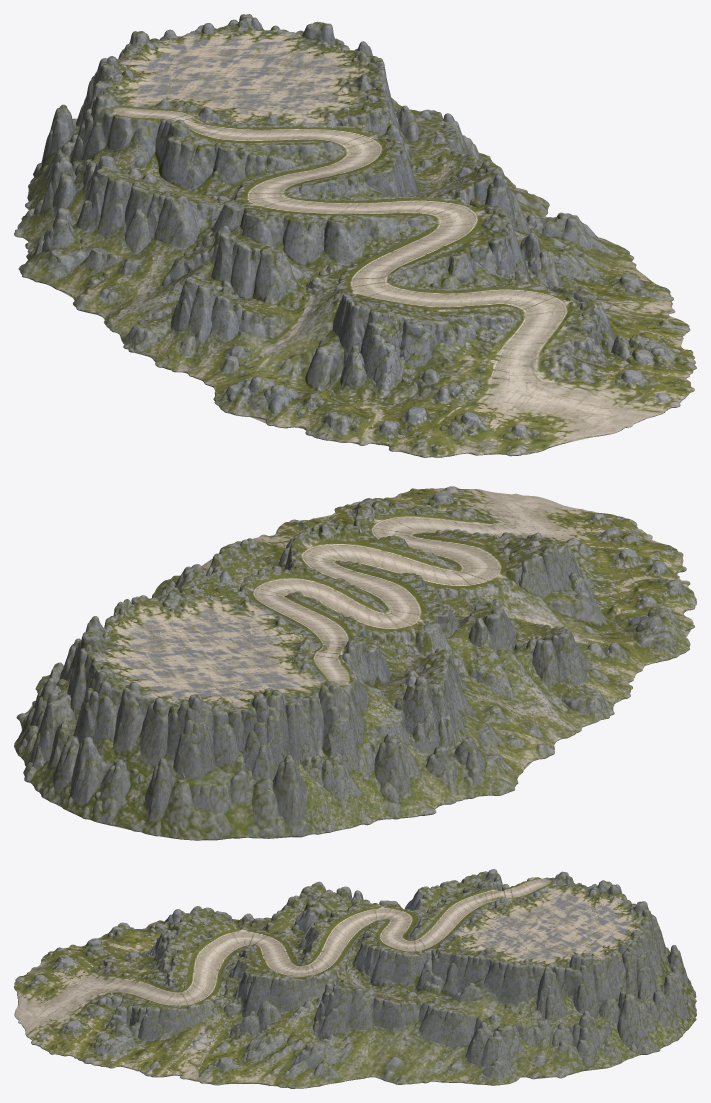
Rendered from runtime-candidate.glb.
The picture shows the model from 3 angles, top to bottom: view 1: azimuth 30°, elevation 25°; view 2: azimuth 150°, elevation 25°; view 3: azimuth 270°, elevation 25°; orthographic projection. The views are drawn at different scales.
Parts seen in each view (by area): view 1: Mesh_0; view 2: Mesh_0; view 3: Mesh_0.
Boxes of the visible parts, x1,y1,x2,y2 form: Mesh_0: (14, 14, 696, 457); Mesh_0: (14, 486, 696, 840); Mesh_0: (14, 869, 696, 1088).
Size of the model in its own units: 1.18 by 0.2827 by 1.9.
Materials: 1 (1 with a texture image).
